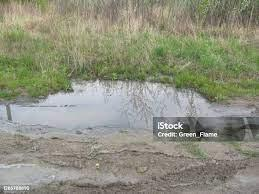Stagnant water: (13, 60, 240, 166)
